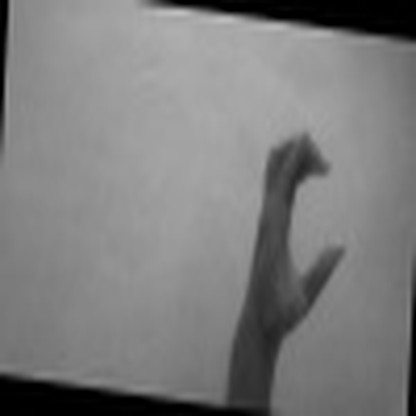c: (248, 123, 351, 330)
